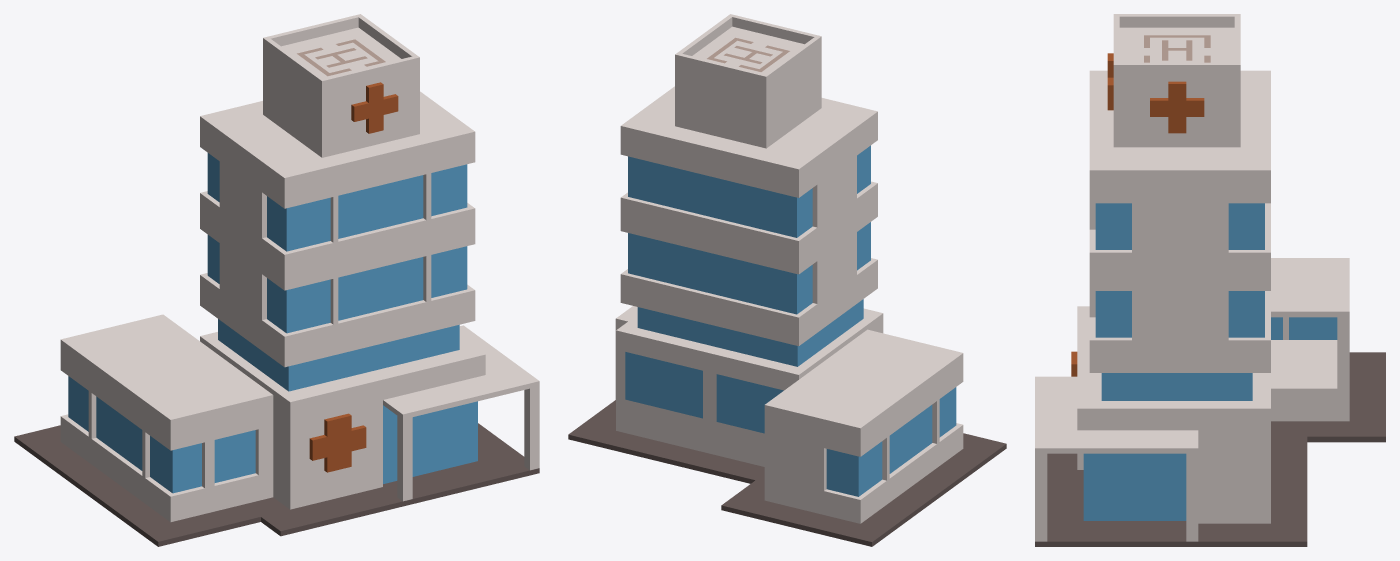
The model's file is Hospital-40.obj.
3 views of the same model, side by side, from view 1: azimuth 30°, elevation 25°; view 2: azimuth 150°, elevation 25°; view 3: azimuth 270°, elevation 25° (orthographic). The views are drawn at different scales.
Bounding box in the file's own units: 7.4 × 8 × 5.8.
Materials: 1 (1 with a texture image).
